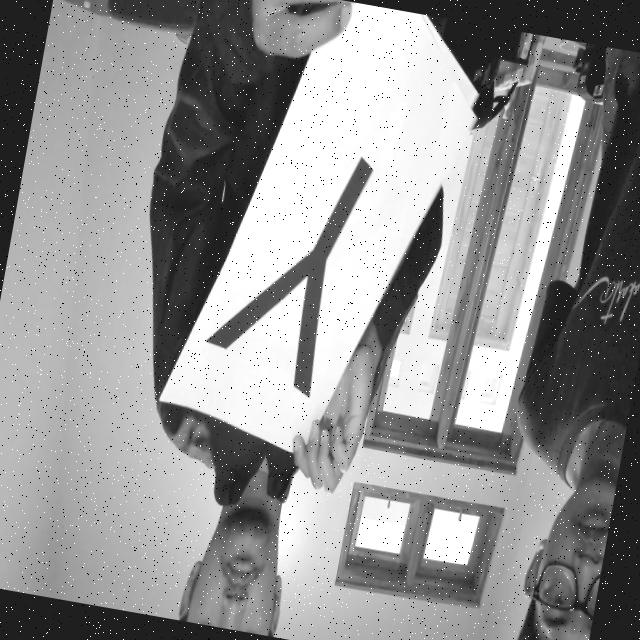y: (186, 94, 392, 420)
